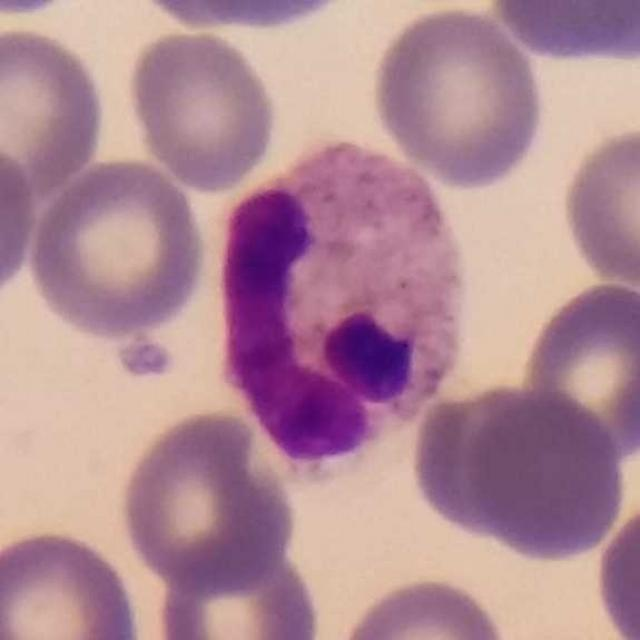eosino: (218, 132, 469, 484)
